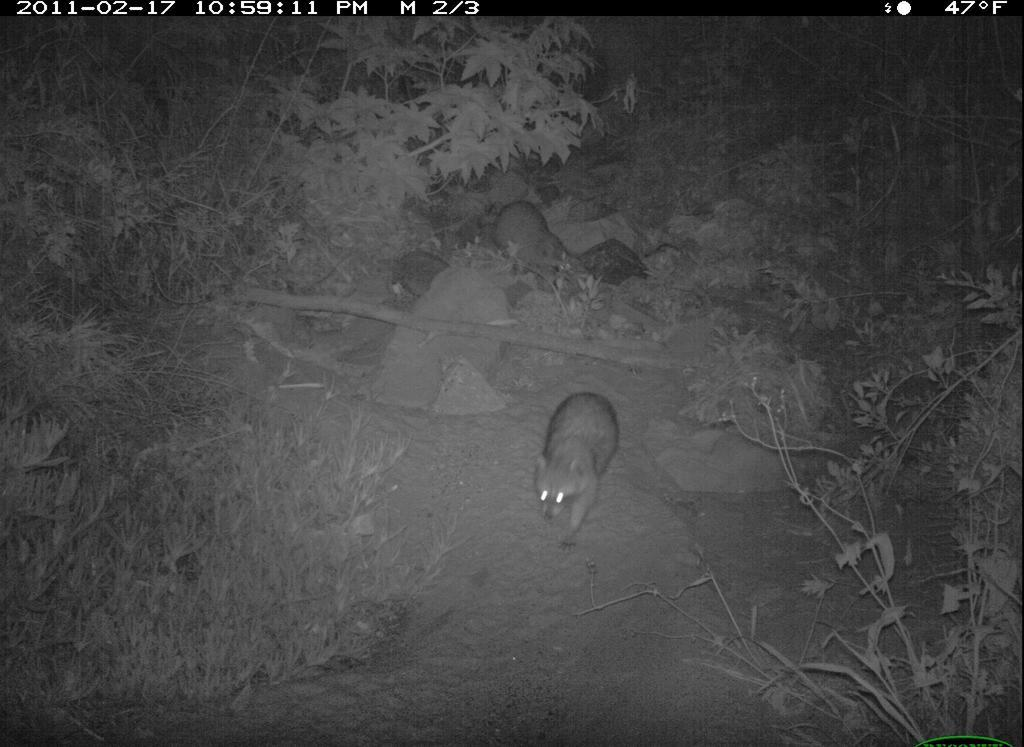raccoon: (518, 378, 641, 552), (483, 193, 594, 301)
